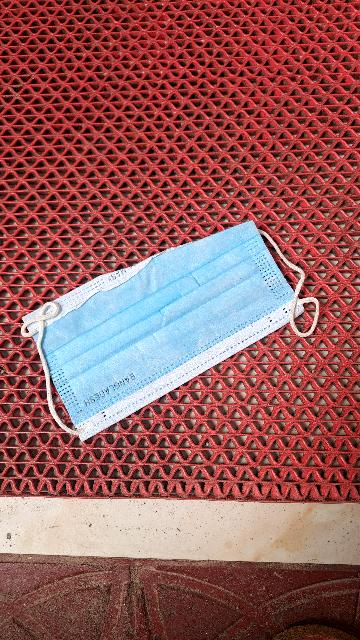mask: (0, 214, 334, 431)
